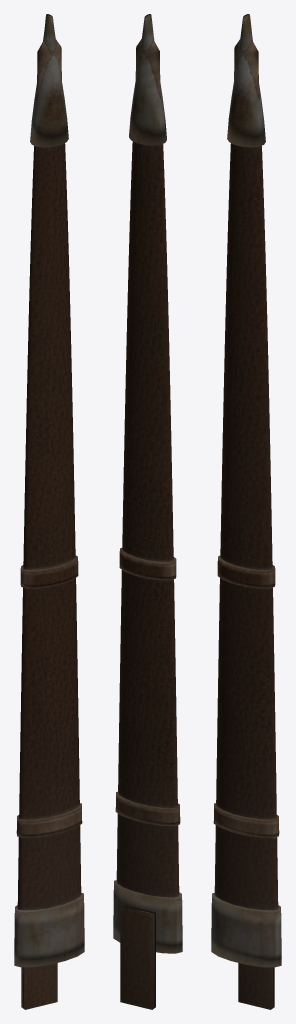
File: scabbard_arming.glb
3 renders of one model, left to right at view 1: azimuth 30°, elevation 25°; view 2: azimuth 150°, elevation 25°; view 3: azimuth 330°, elevation 25°, orthographic.
Visible parts, largest first — view 1: scabbard_arming; view 2: scabbard_arming; view 3: scabbard_arming.
Boxes of the visible parts, bbox=[...] form: scabbard_arming: bbox=[14, 14, 84, 1009]; scabbard_arming: bbox=[113, 14, 182, 1009]; scabbard_arming: bbox=[211, 14, 281, 1009].
Bounding box in the file's own units: 0.065 × 0.8815 × 0.0317.
1 material, 1 textured.
